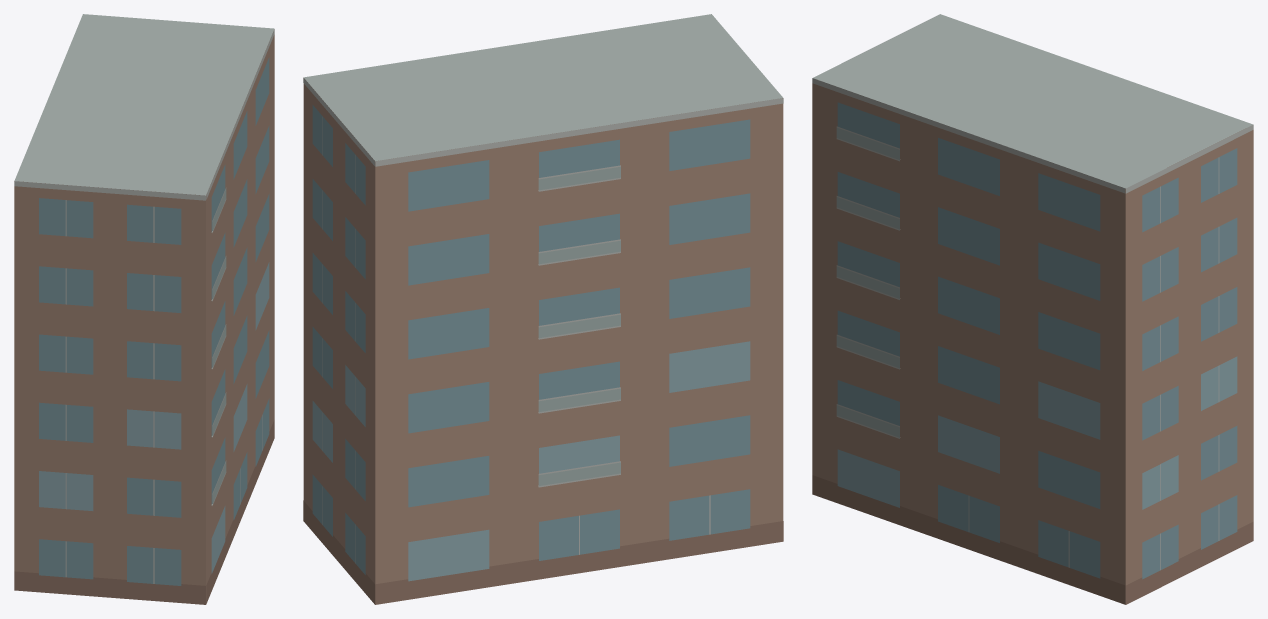
The model's file is survey-upis-33004214.glb.
The picture shows the model from 3 angles, left to right: view 1: azimuth 30°, elevation 25°; view 2: azimuth 150°, elevation 25°; view 3: azimuth 270°, elevation 25°; orthographic projection. The views are drawn at different scales.
Visible parts, largest first — view 1: survey-upis-33004214.tmp; view 2: survey-upis-33004214.tmp; view 3: survey-upis-33004214.tmp.
Part boxes in pixels (bbox=[...]): survey-upis-33004214.tmp: bbox=[14, 14, 274, 604]; survey-upis-33004214.tmp: bbox=[303, 14, 783, 604]; survey-upis-33004214.tmp: bbox=[812, 14, 1253, 604].
Bounding box in the file's own units: 17.44 × 19.4 × 18.63.
